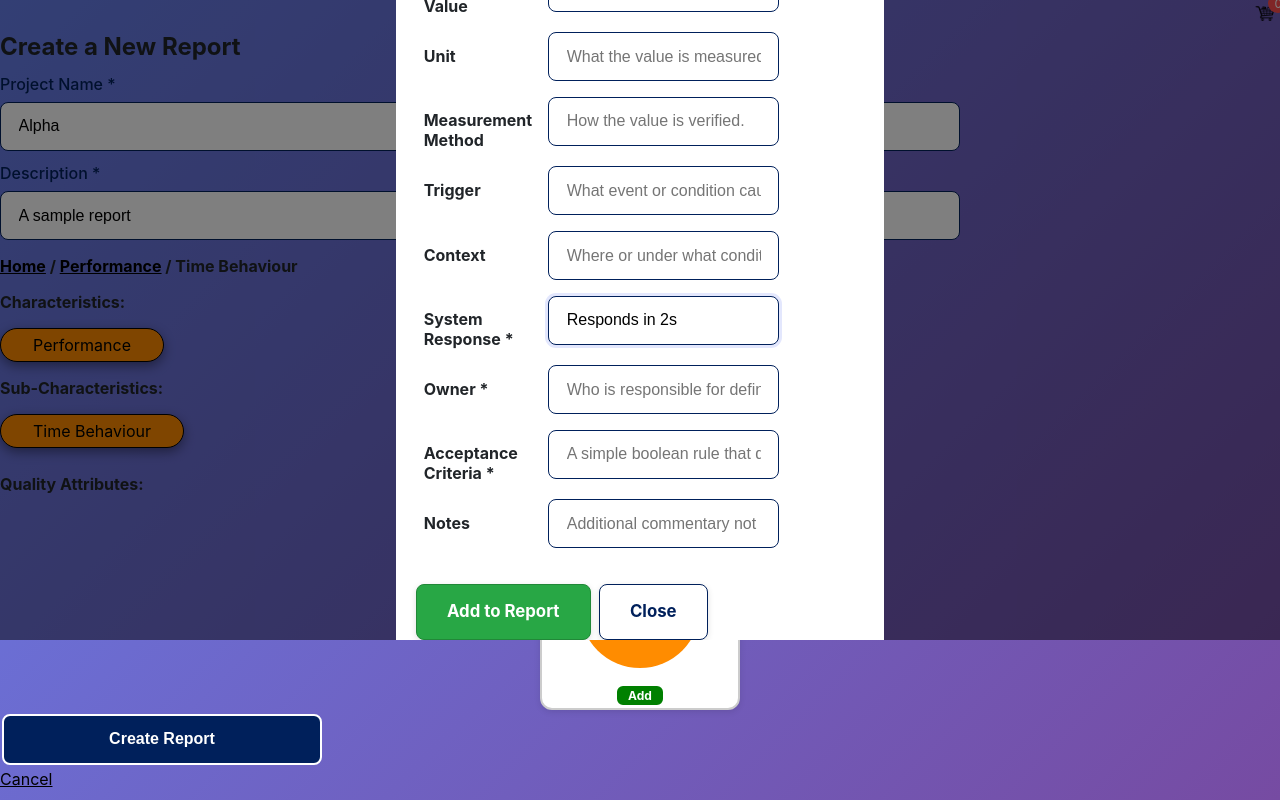
Scenario: ReportForm › missing mandatory field:  Acceptance Criteria
Earlier steps of the test are not shown.
(page scrolled)
Type "Team A" into the field labelled "Owner *". click: [664, 390]
box: [548,365,779,414]
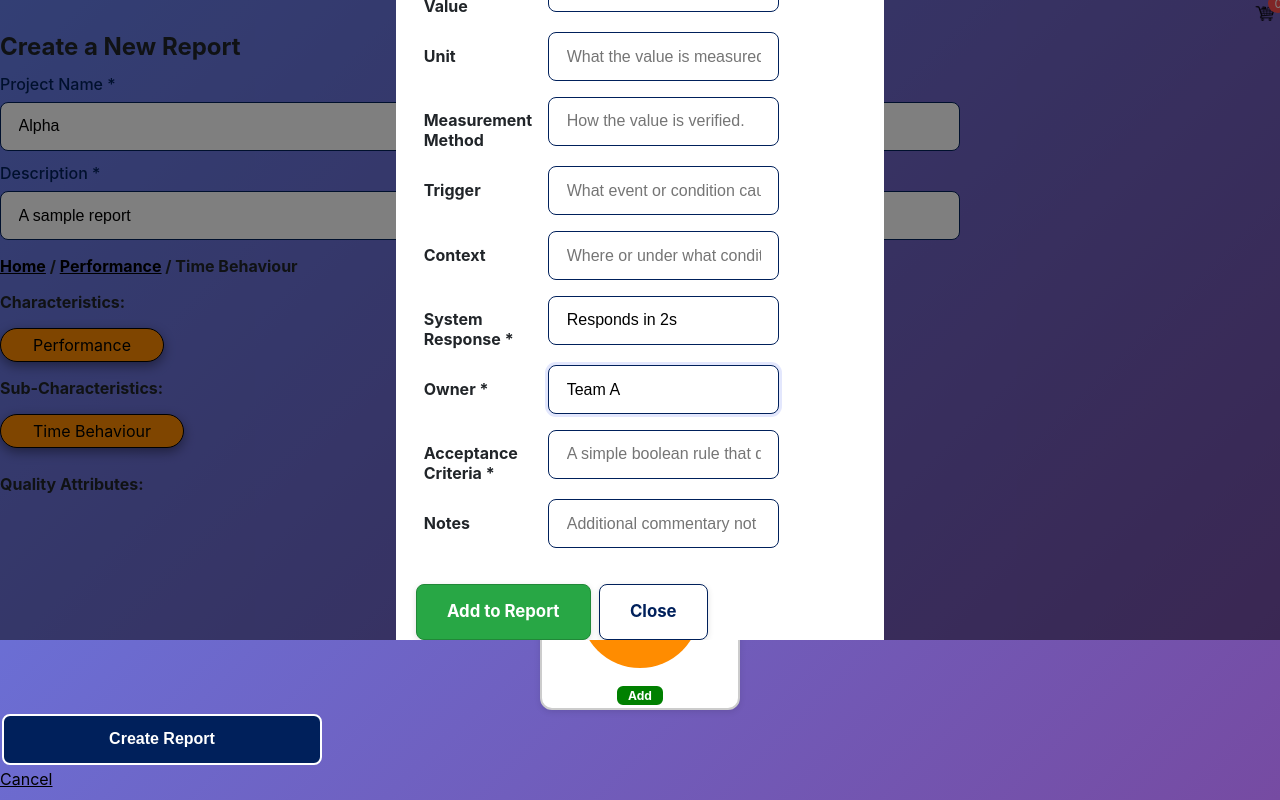
Click the button "Add to Report". click: [503, 612]
box: [416,584,591,640]
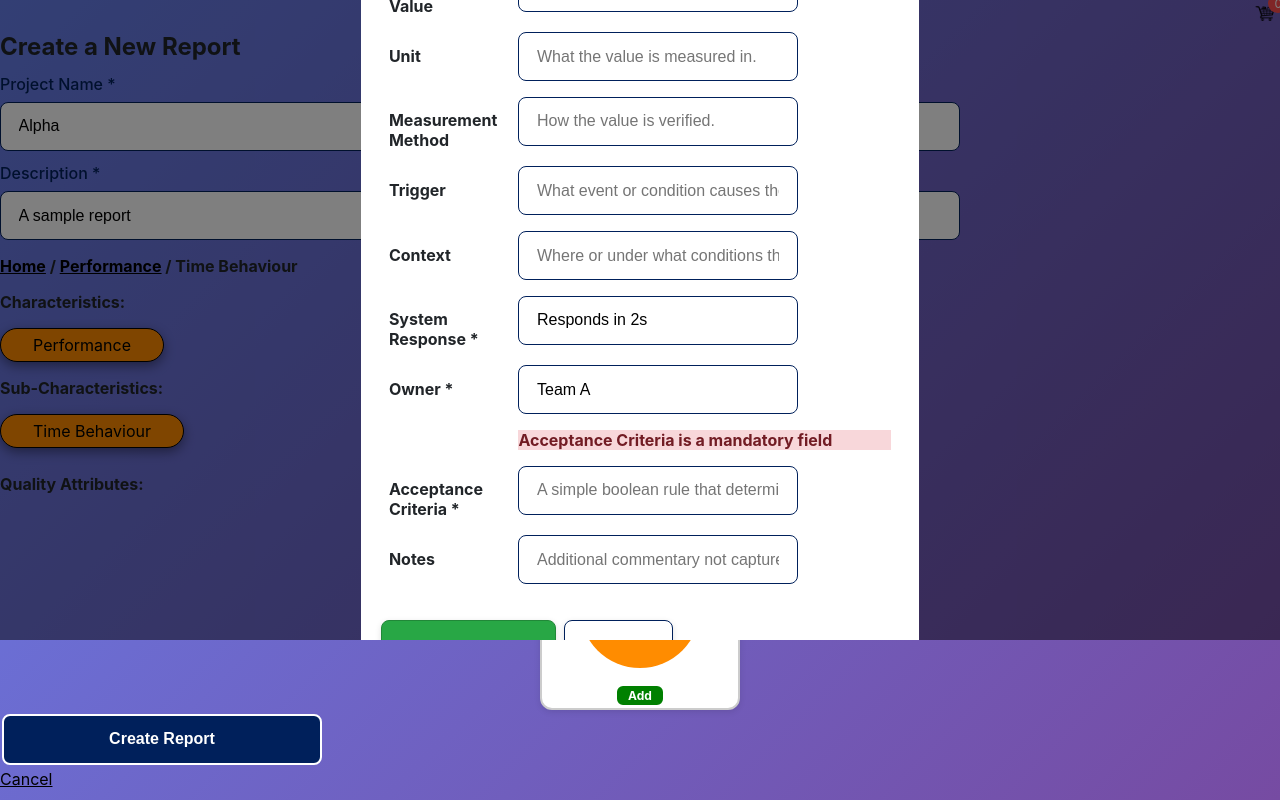
Expected: the text "Acceptance Criteria is a mandatory field" is shown, [518,430,891,450]
